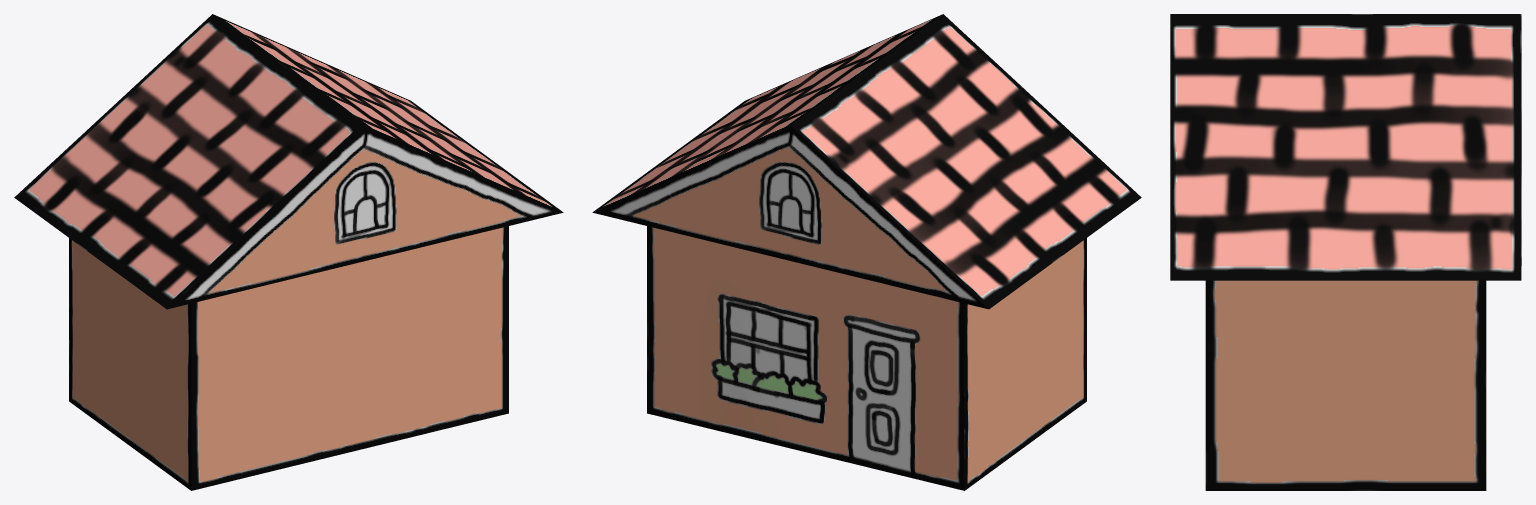
File: HousePrototype.fbx
The picture shows the model from 3 angles, left to right: view 1: azimuth 30°, elevation 25°; view 2: azimuth 150°, elevation 25°; view 3: azimuth 270°, elevation 25°; orthographic projection. The views are drawn at different scales.
Parts seen in each view (by area): view 1: Prism, Cube; view 2: Prism, Cube; view 3: Prism, Cube.
Part boxes in pixels (x1=…): Prism: x1=14, y1=14, x2=563, y2=309; Cube: x1=69, y1=226, x2=508, y2=490; Prism: x1=592, y1=14, x2=1141, y2=309; Cube: x1=647, y1=226, x2=1086, y2=490; Prism: x1=1170, y1=14, x2=1521, y2=280; Cube: x1=1205, y1=280, x2=1486, y2=490.
Bounding box in the file's own units: 375 × 305 × 250.
